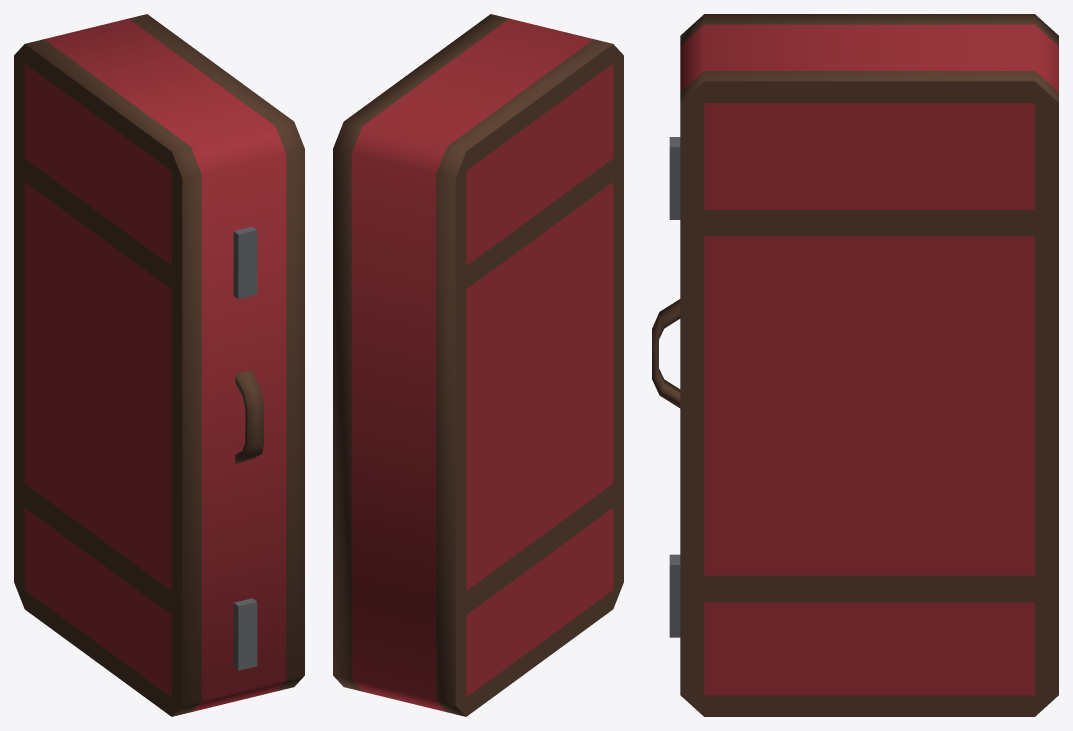
The model's file is Suitcase.fbx.
3 renders of one model, left to right at view 1: azimuth 30°, elevation 25°; view 2: azimuth 150°, elevation 25°; view 3: azimuth 270°, elevation 25°, orthographic. The views are drawn at different scales.
Visible parts, largest first — view 1: Suitcase; view 2: Suitcase; view 3: Suitcase.
Part boxes in pixels (<box>): Suitcase: <box>14,14,304,716</box>; Suitcase: <box>333,14,623,716</box>; Suitcase: <box>652,14,1058,716</box>.
Bounding box in the file's own units: 0.214 × 0.9432 × 0.5472.
